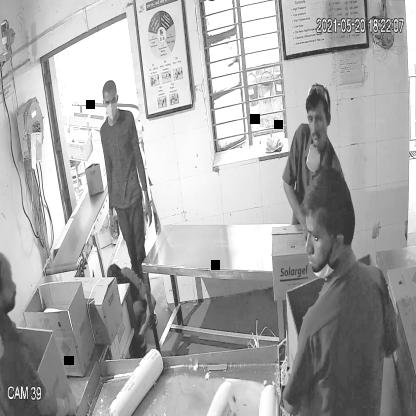no_goggles: (306, 223, 346, 251), (305, 107, 332, 132)
